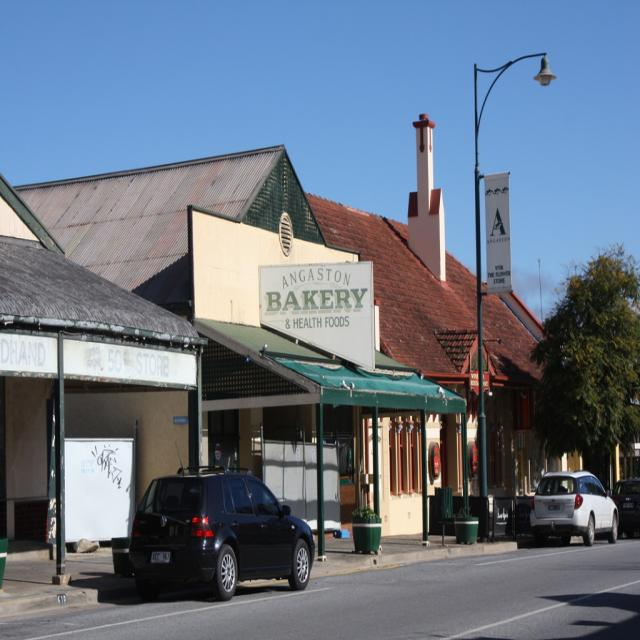Passenger Car: (129, 466, 316, 602), (530, 472, 620, 548), (614, 479, 638, 541)
